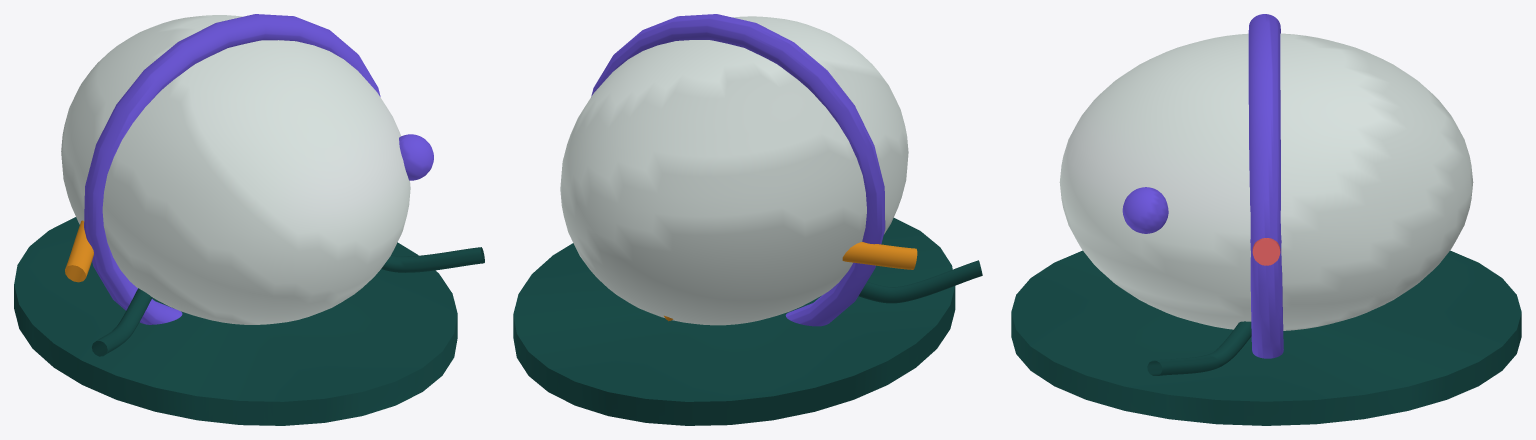
The model's file is 1239_细胞图鉴_细胞膜.glb.
3 views of the same model, side by side, from view 1: azimuth 30°, elevation 25°; view 2: azimuth 150°, elevation 25°; view 3: azimuth 270°, elevation 25° (orthographic).
Parts seen in each view (by area): view 1: card_1239; view 2: card_1239; view 3: card_1239.
Boxes of the visible parts, <box> form: card_1239: <box>14,14,484,425</box>; card_1239: <box>513,14,982,425</box>; card_1239: <box>1011,14,1521,425</box>.
Size of the model in its own units: 1.3 by 1 by 1.46.
